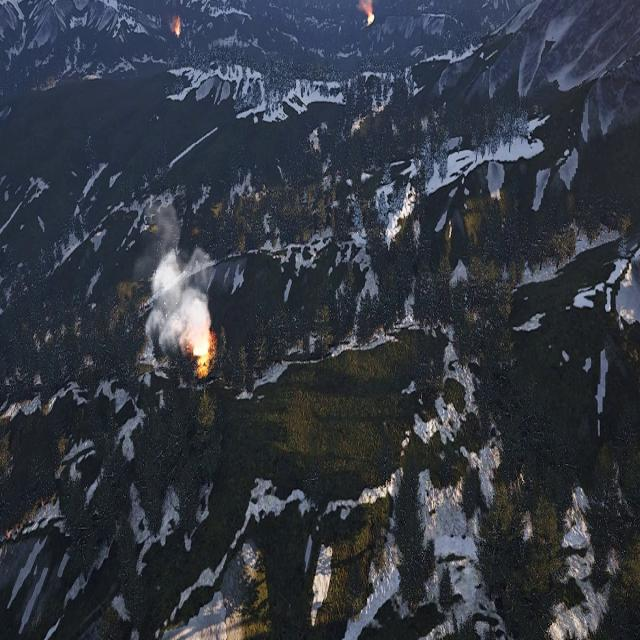fire: (192, 327, 215, 374), (173, 16, 182, 35), (365, 7, 374, 25)
smoke: (136, 201, 214, 354), (356, 0, 374, 14)
